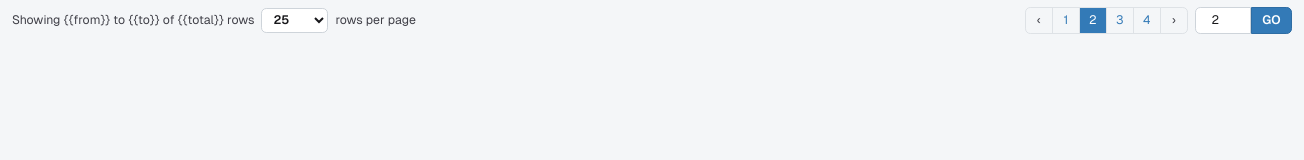
ClassicPager › snaps an unusable entry back to the current page
Clear the number field named "Jump to page" at (1223,20), box x1=1195 y1=7 x2=1251 y2=34
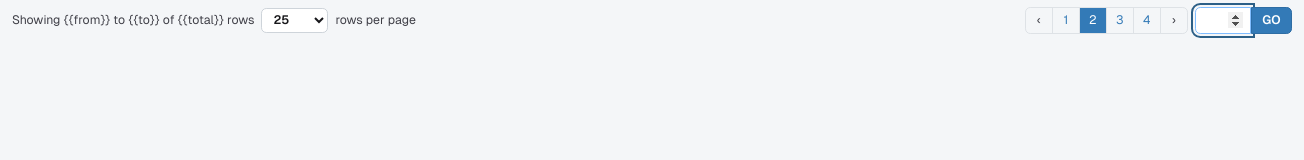
Click the button "GO" at (1271,20), box x1=1251 y1=7 x2=1292 y2=34
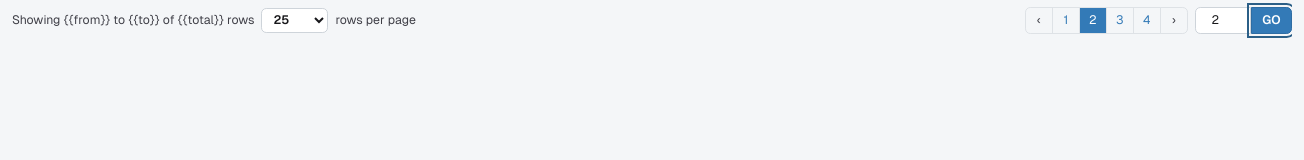
Now the number field named "Jump to page" holds "2", box x1=1195 y1=7 x2=1251 y2=34
